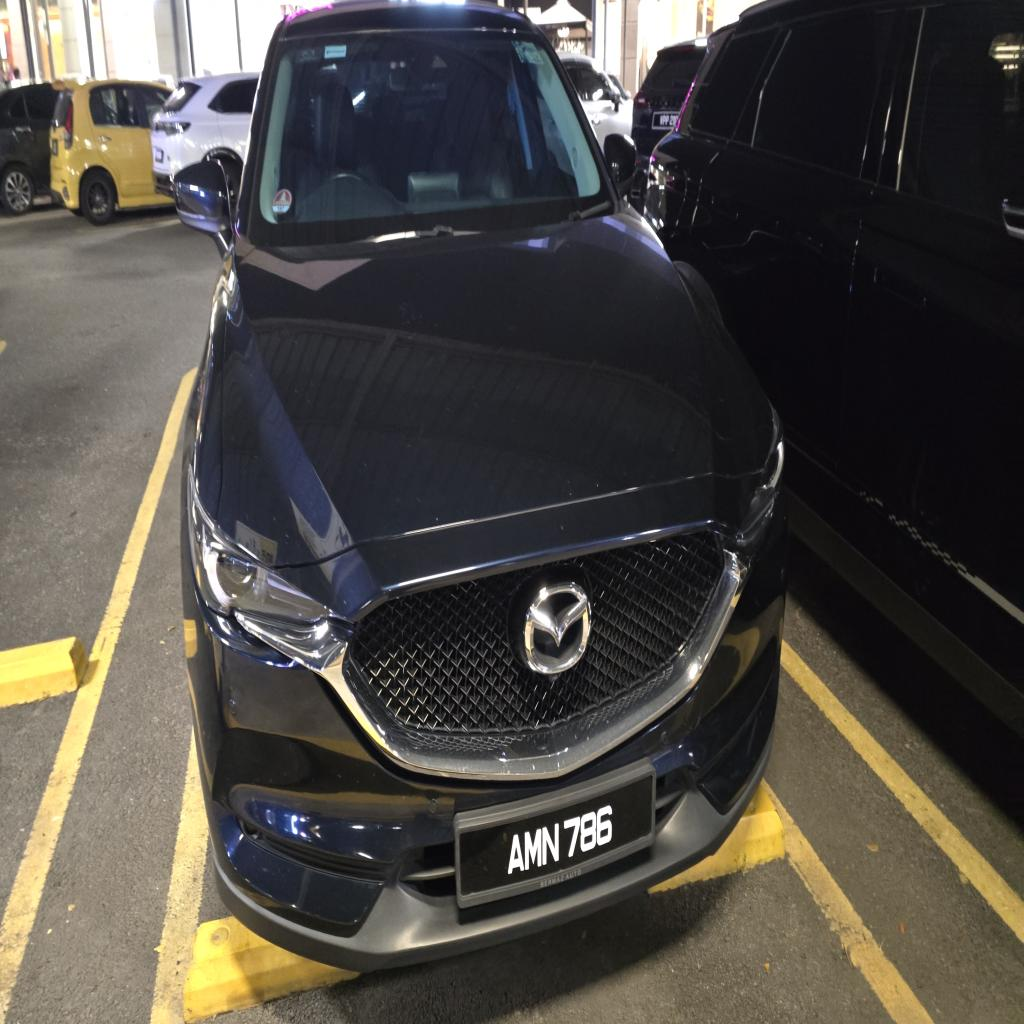car: (174, 0, 786, 970)
car plate: (454, 762, 654, 907)
